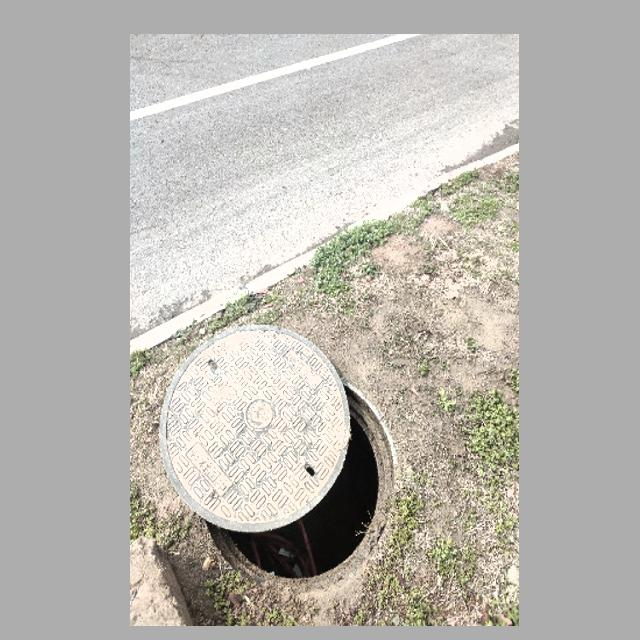uncovered: (160, 322, 394, 594)
